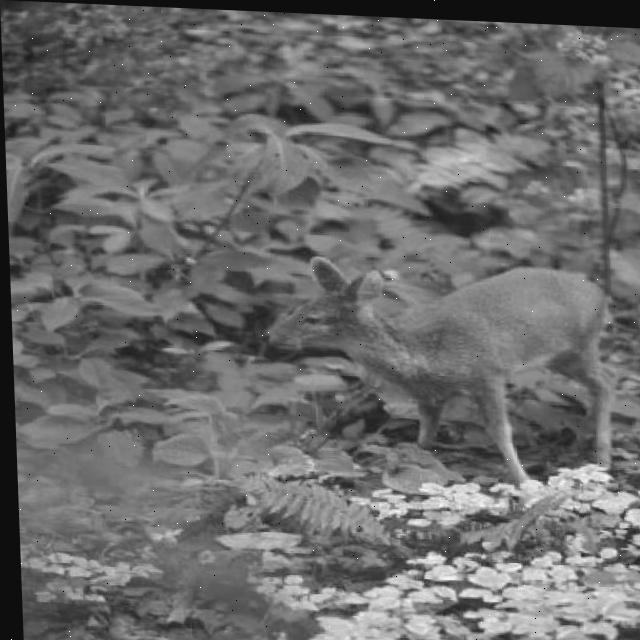Deer: (219, 234, 640, 508)
